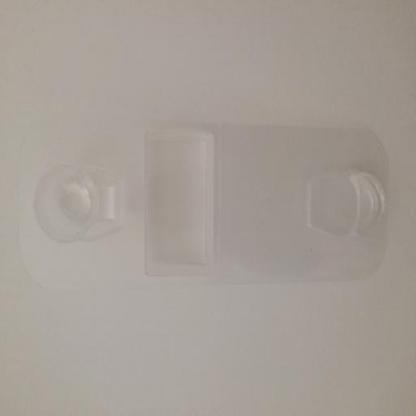trash: (16, 119, 394, 285)
